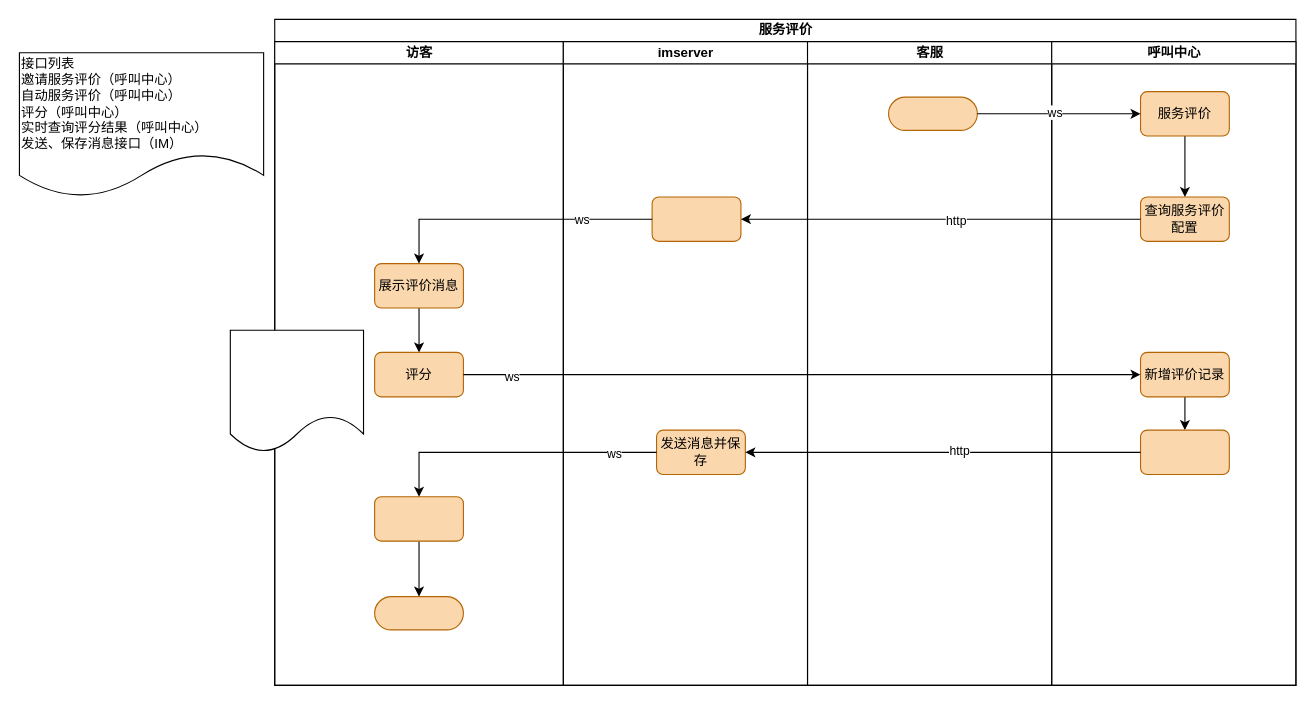
The diagram is 1315 pixels wide and 705 high, and some of its shapes have lost their labels. The shapes that lost their labels are listed below. From the top down, each one's centre as x and y in pixels, then its label:
At pixel 932 113: "开始".
At pixel 696 218: "发送服务评价消息，并保存".
At pixel 296 390: "聊天记录为评分时，实时到呼叫中心查询评分结果".
At pixel 1184 452: "查询评价结束语".
At pixel 418 518: "展示评价结束语".
At pixel 418 613: "结束".
